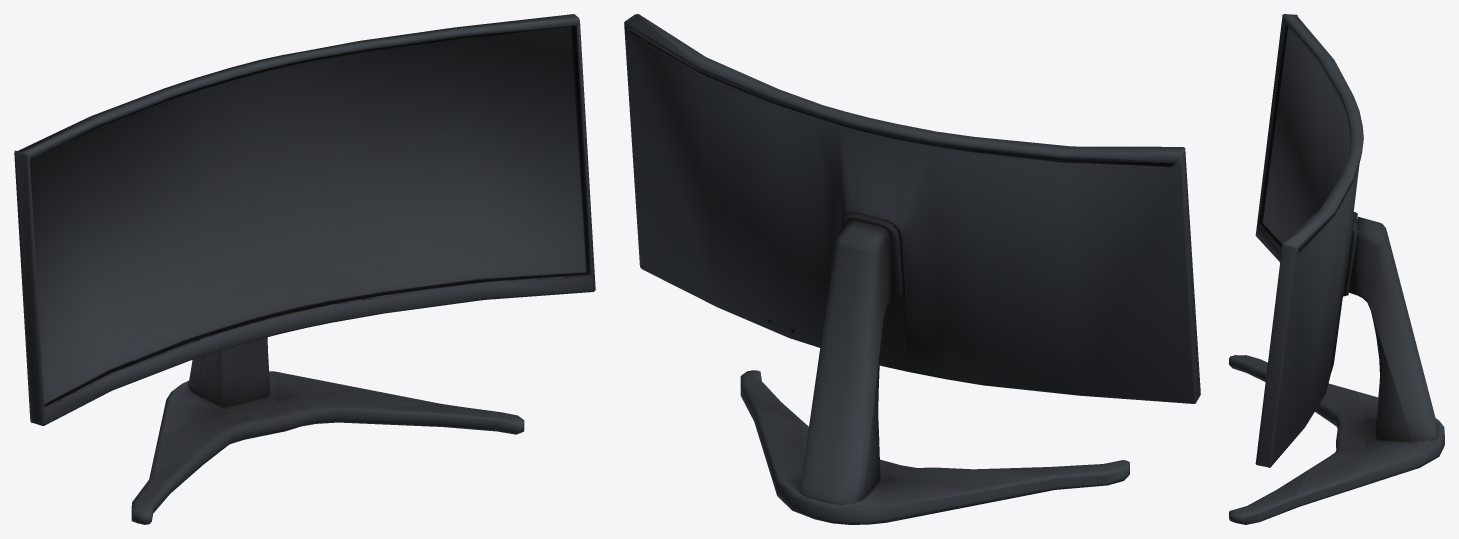
File: curved_monitor.glb
The picture shows the model from 3 angles, left to right: view 1: azimuth 30°, elevation 25°; view 2: azimuth 150°, elevation 25°; view 3: azimuth 270°, elevation 25°; orthographic projection. The views are drawn at different scales.
Parts seen in each view (by area): view 1: mesh_input; view 2: mesh_input; view 3: mesh_input.
Boxes of the visible parts, x1,y1,x2,y2 form: mesh_input: (14,14,595,524); mesh_input: (624,14,1200,524); mesh_input: (1229,14,1444,524).
Size of the model in its own units: 1.9 by 1.21 by 0.744.
Materials: 1 (1 with a texture image).
